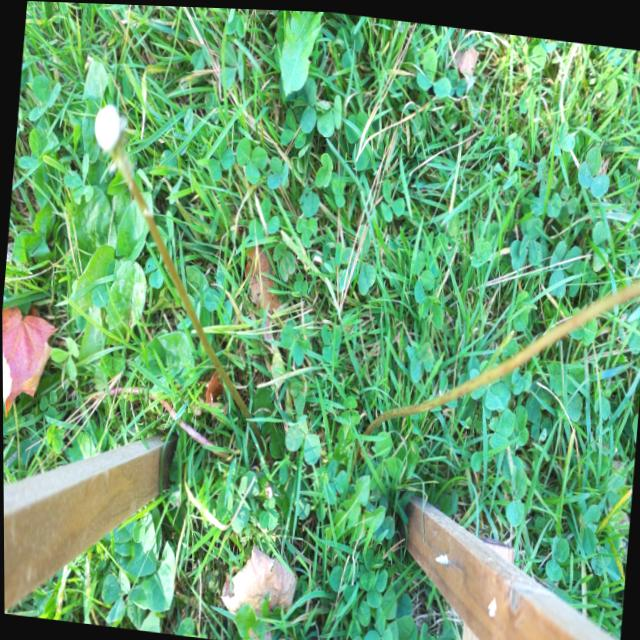base: (243, 412, 272, 456), (347, 417, 372, 460)
